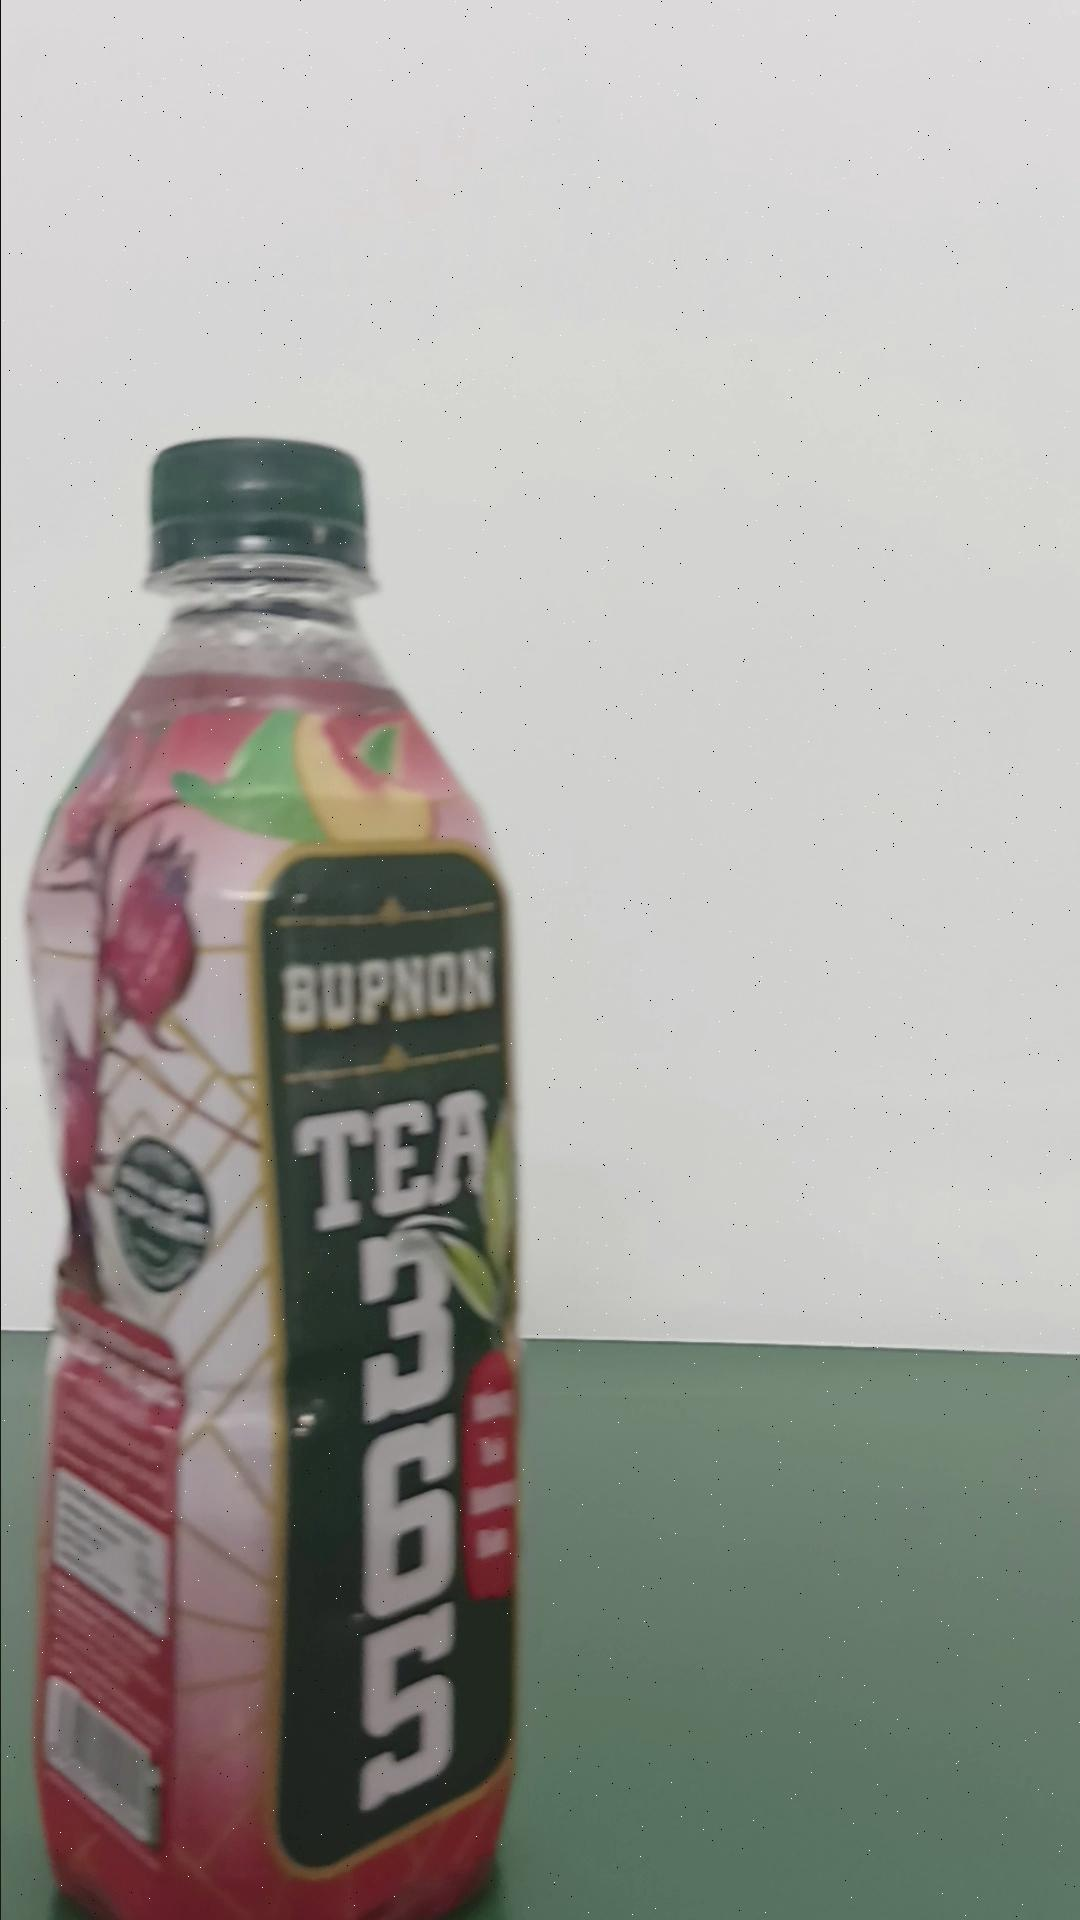loi meo sp: (22, 433, 526, 1913)
